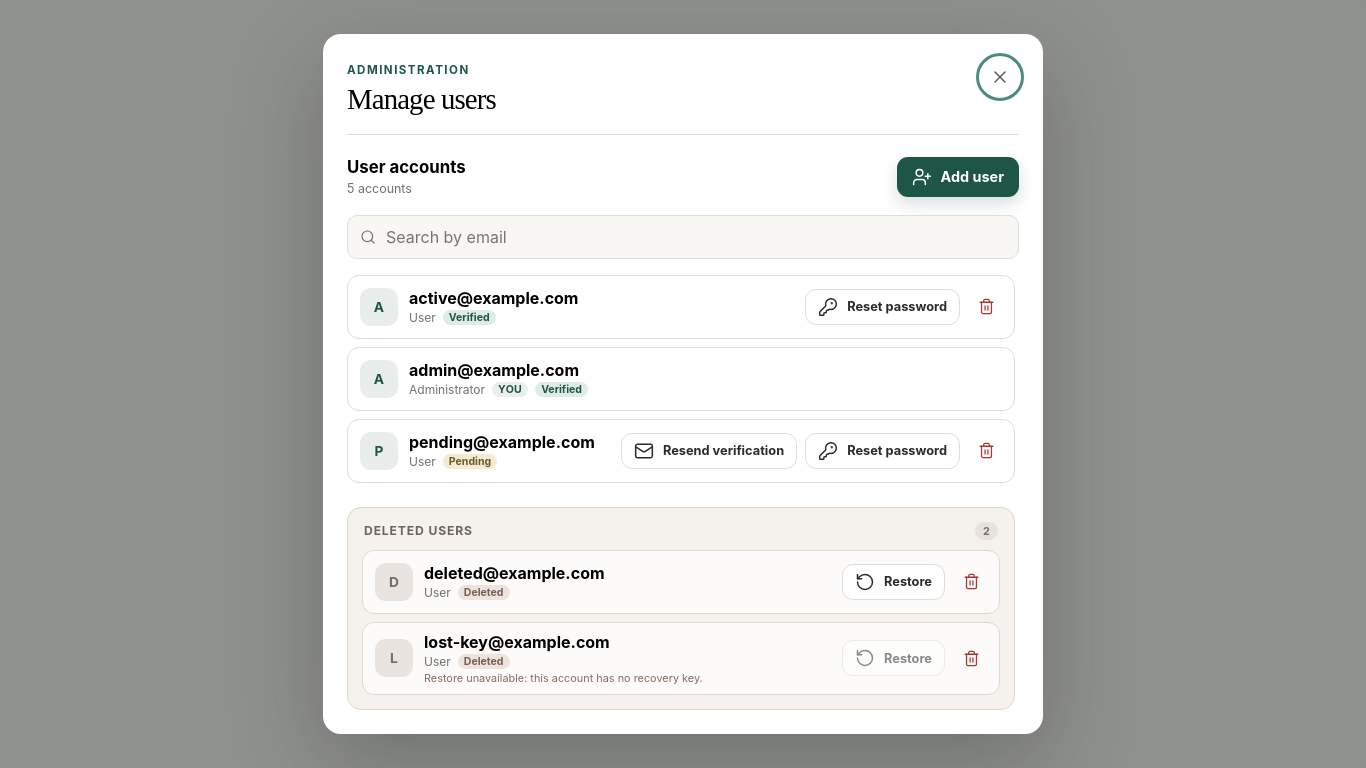
Test: UserManagementDialog deleted users › restores an account, marks recovery pending, and reveals the temporary password
Expected: the text "deleted@example.com" is shown, [424, 563, 604, 583]
Click the button "Restore" in the row of "deleted@example.com" at x=894, y=582, box [842, 564, 945, 600]
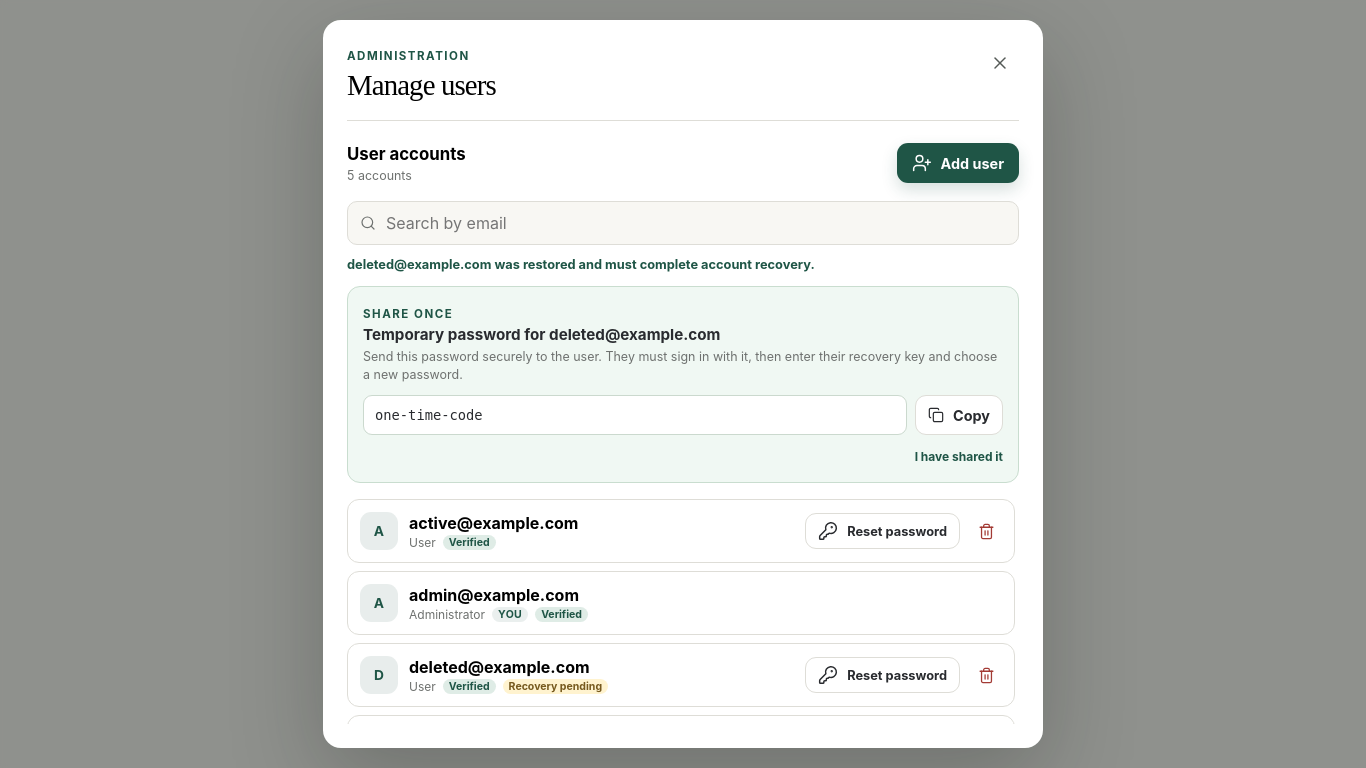
Result: the text "one-time-code" is shown at [363, 395, 907, 435]
Result: the button with aria-label "Copy temporary password" is shown at [915, 395, 1003, 435]
Result: the text "Recovery pending" is shown at [503, 679, 608, 694]
